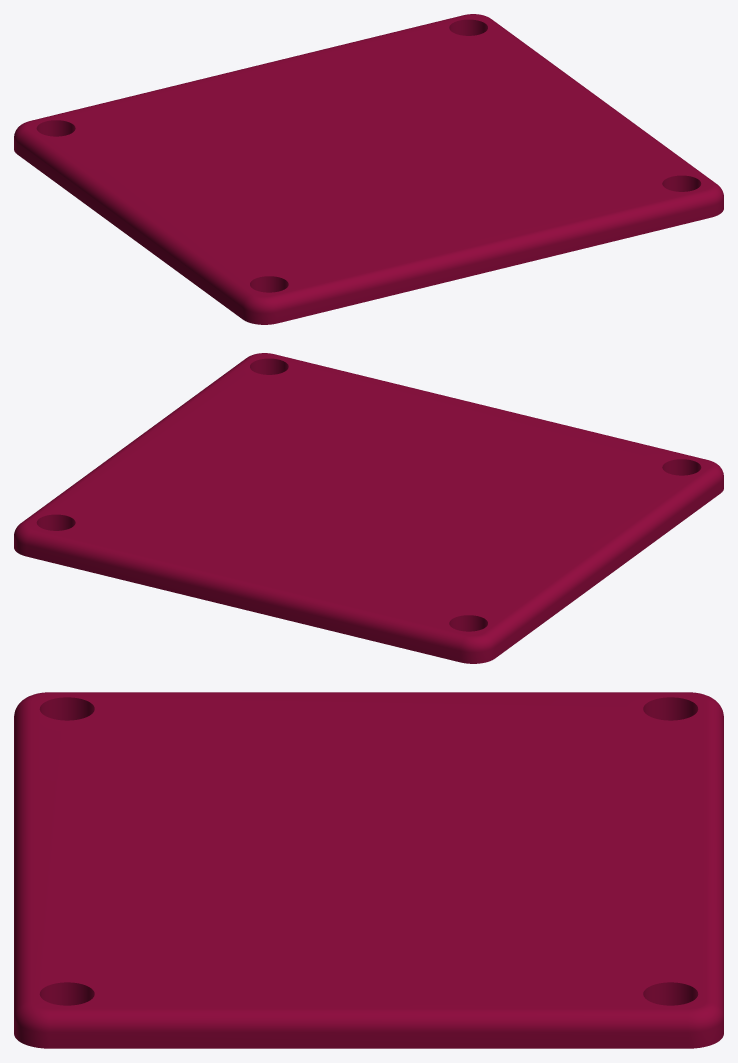
The model's file is servilinerjcover.obj.
The picture shows the model from 3 angles, top to bottom: view 1: azimuth 30°, elevation 25°; view 2: azimuth 150°, elevation 25°; view 3: azimuth 270°, elevation 25°; orthographic projection. The views are drawn at different scales.
Visible parts, largest first — view 1: serviLiveRJCover; view 2: serviLiveRJCover; view 3: serviLiveRJCover.
Part boxes in pixels (left/top/right/bottom): serviLiveRJCover: left=14, top=14, right=723, bottom=324; serviLiveRJCover: left=14, top=353, right=723, bottom=663; serviLiveRJCover: left=14, top=692, right=723, bottom=1048.
Size of the model in its own units: 44 by 2 by 40.
